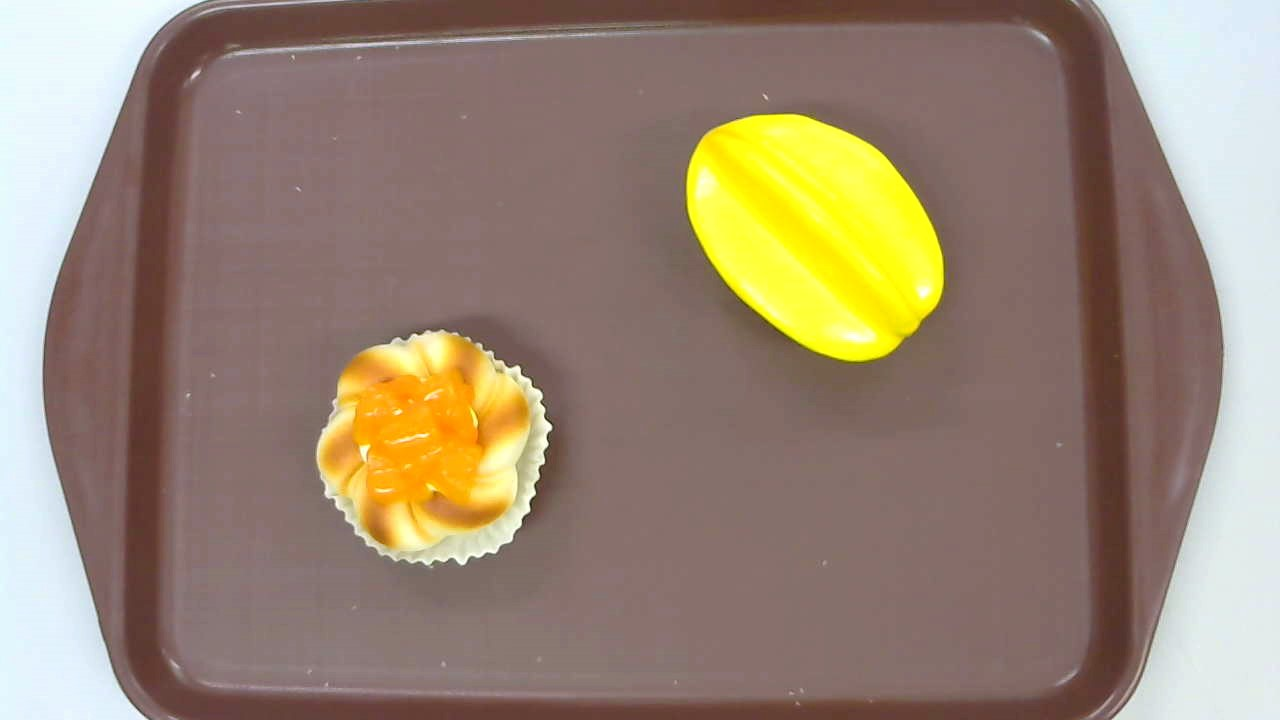mango tart: (316, 328, 553, 566)
star fruit: (685, 112, 944, 365)
